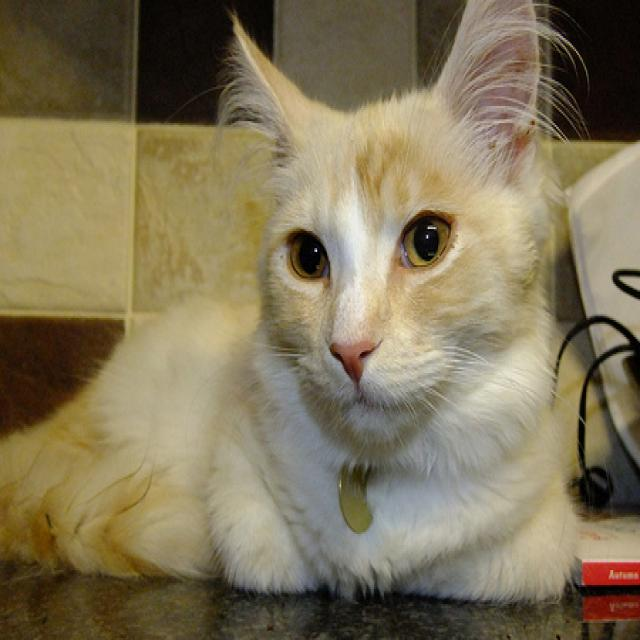Maine Coon: (0, 0, 580, 606)
